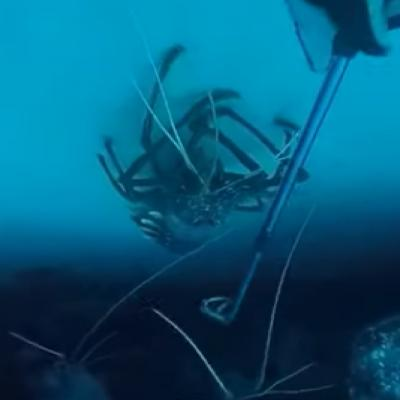lobster: (130, 104, 242, 256)
